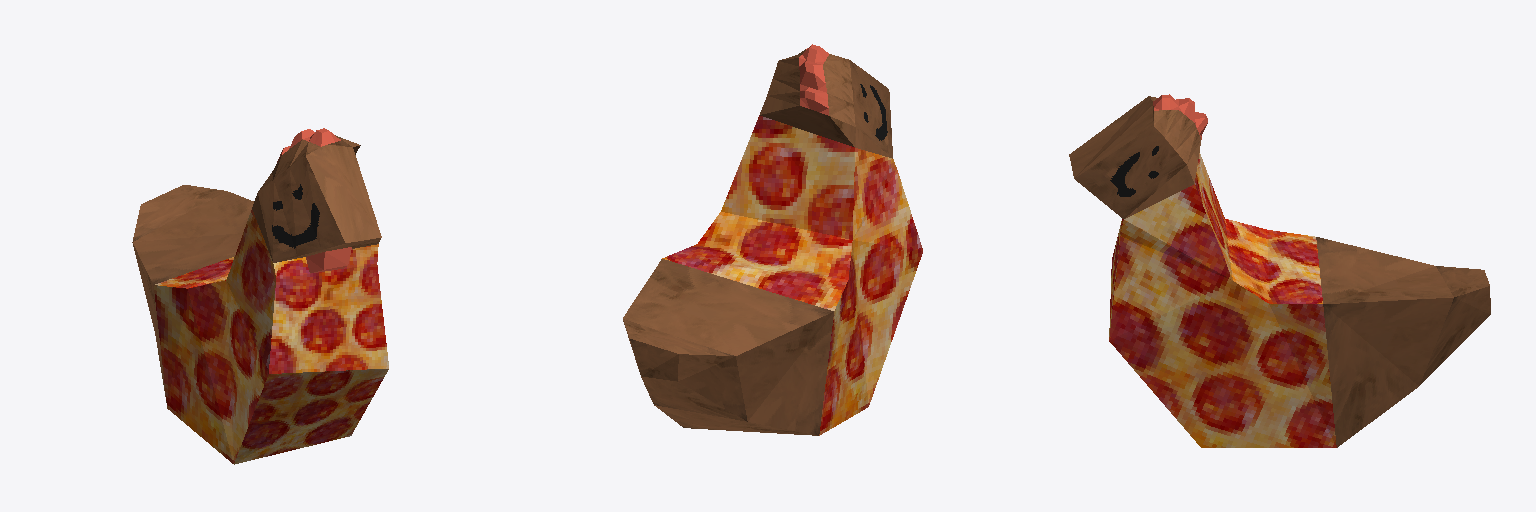
3 views of the same model, side by side, from view 1: azimuth 30°, elevation 25°; view 2: azimuth 150°, elevation 25°; view 3: azimuth 270°, elevation 25° (orthographic).
Visible parts, largest first — view 1: default; view 2: default; view 3: default.
Boxes of the visible parts, x1,y1,x2,y2 form: default: [132, 128, 388, 464]; default: [623, 44, 922, 435]; default: [1069, 94, 1490, 447].
Bounding box in the file's own units: 3.59 × 6.72 × 7.78.
1 materials, 1 textured.